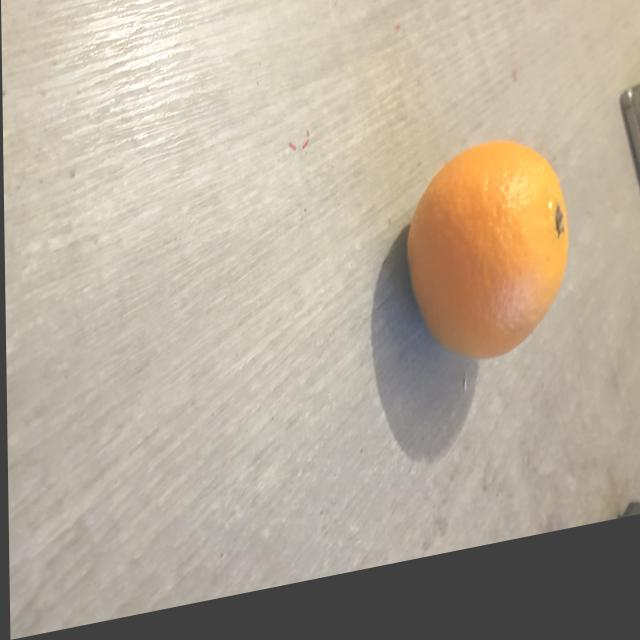Orange: (404, 161, 566, 380)
